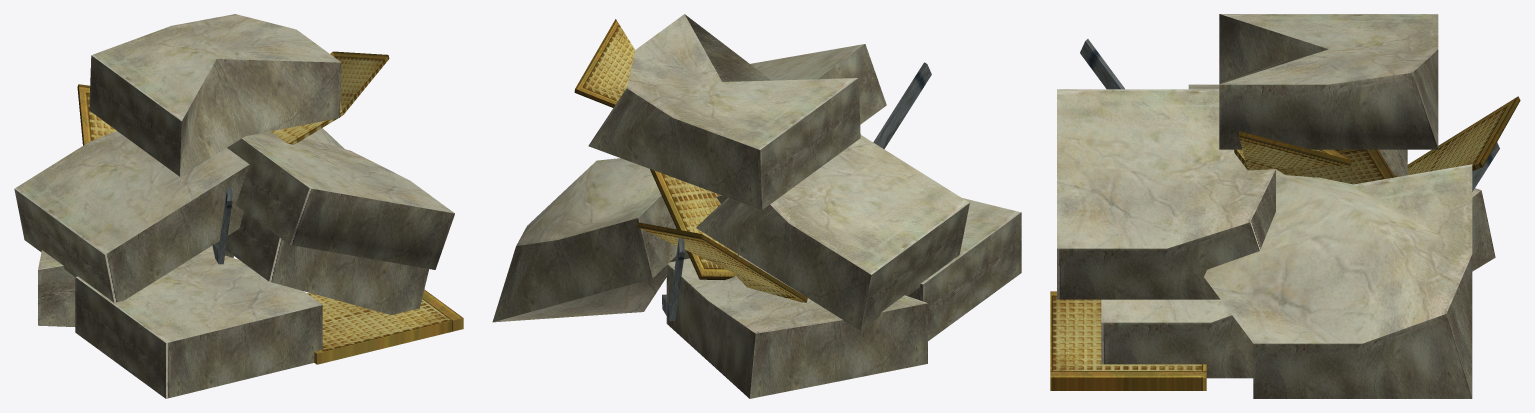
The model's file is a_brockenwall.glb.
3 views of the same model, side by side, from view 1: azimuth 30°, elevation 25°; view 2: azimuth 150°, elevation 25°; view 3: azimuth 270°, elevation 25° (orthographic). The views are drawn at different scales.
Visible parts, largest first — view 1: a_brockenwall; view 2: a_brockenwall; view 3: a_brockenwall.
Boxes of the visible parts, bbox=[...] form: a_brockenwall: bbox=[14, 14, 463, 398]; a_brockenwall: bbox=[492, 14, 1021, 398]; a_brockenwall: bbox=[1050, 14, 1520, 398].
Size of the model in its own units: 2.42 by 1.55 by 2.33.
Materials: 2 (2 with a texture image).
